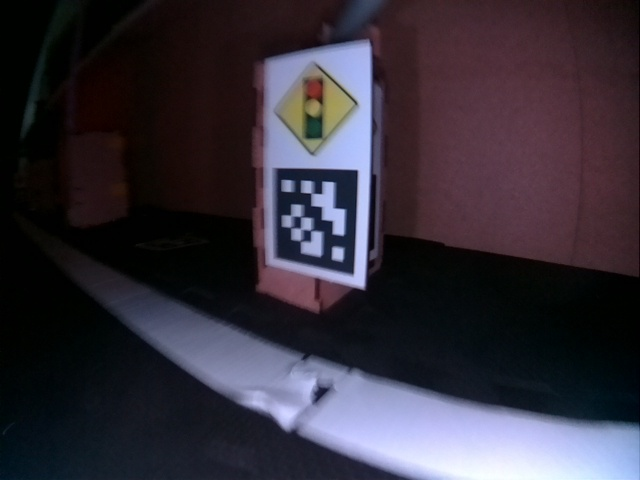QR code: (272, 167, 360, 279), (136, 235, 205, 250)
Signal sign: (265, 40, 370, 163)
